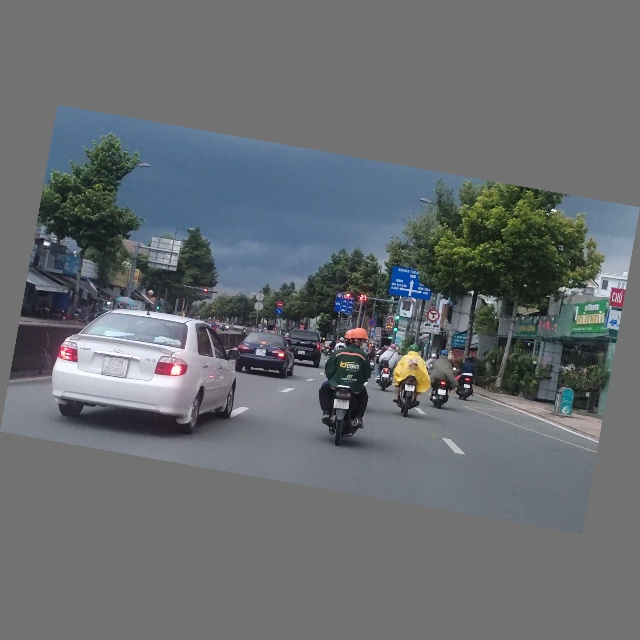P.102: (276, 302, 284, 309)
P.131a: (368, 319, 376, 327)
P.137: (426, 310, 441, 324)
R.302a: (275, 308, 283, 316)
R.415a: (333, 298, 354, 315)
